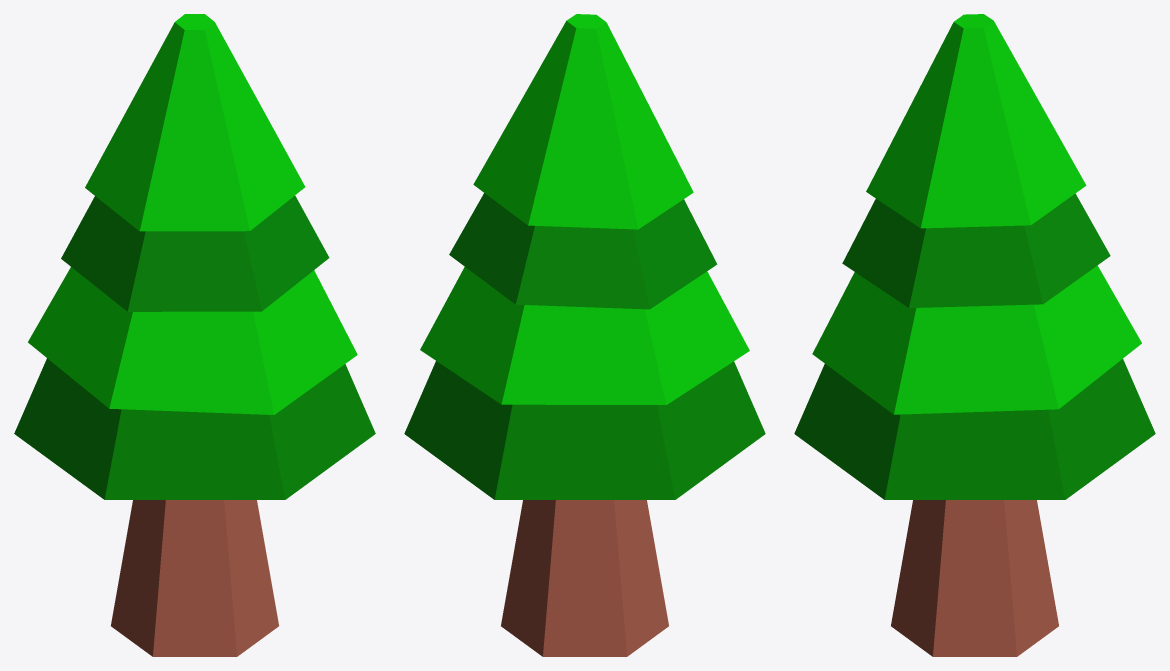
Rendered from tree_2b.fbx.
3 renders of one model, left to right at view 1: azimuth 30°, elevation 25°; view 2: azimuth 150°, elevation 25°; view 3: azimuth 270°, elevation 25°, orthographic.
Visible parts, largest first — view 1: tree_2b; view 2: tree_2b; view 3: tree_2b.
Boxes of the visible parts, x1,y1,x2,y2 form: tree_2b: (14, 14, 375, 656); tree_2b: (404, 14, 765, 656); tree_2b: (794, 14, 1155, 656).
Size of the model in its own units: 274 by 584 by 316.
